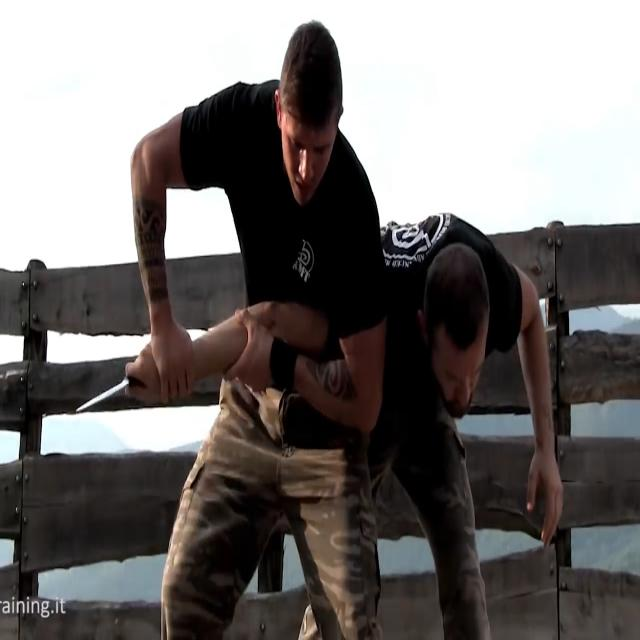knife: (76, 374, 132, 412)
